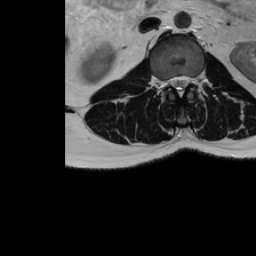CCS_normal: (177, 69, 184, 102)
LFS_normal: (190, 71, 196, 89)
LLS_normal: (184, 69, 190, 90)
RFS_normal: (162, 71, 170, 94)
RLS_normal: (170, 70, 177, 93)
